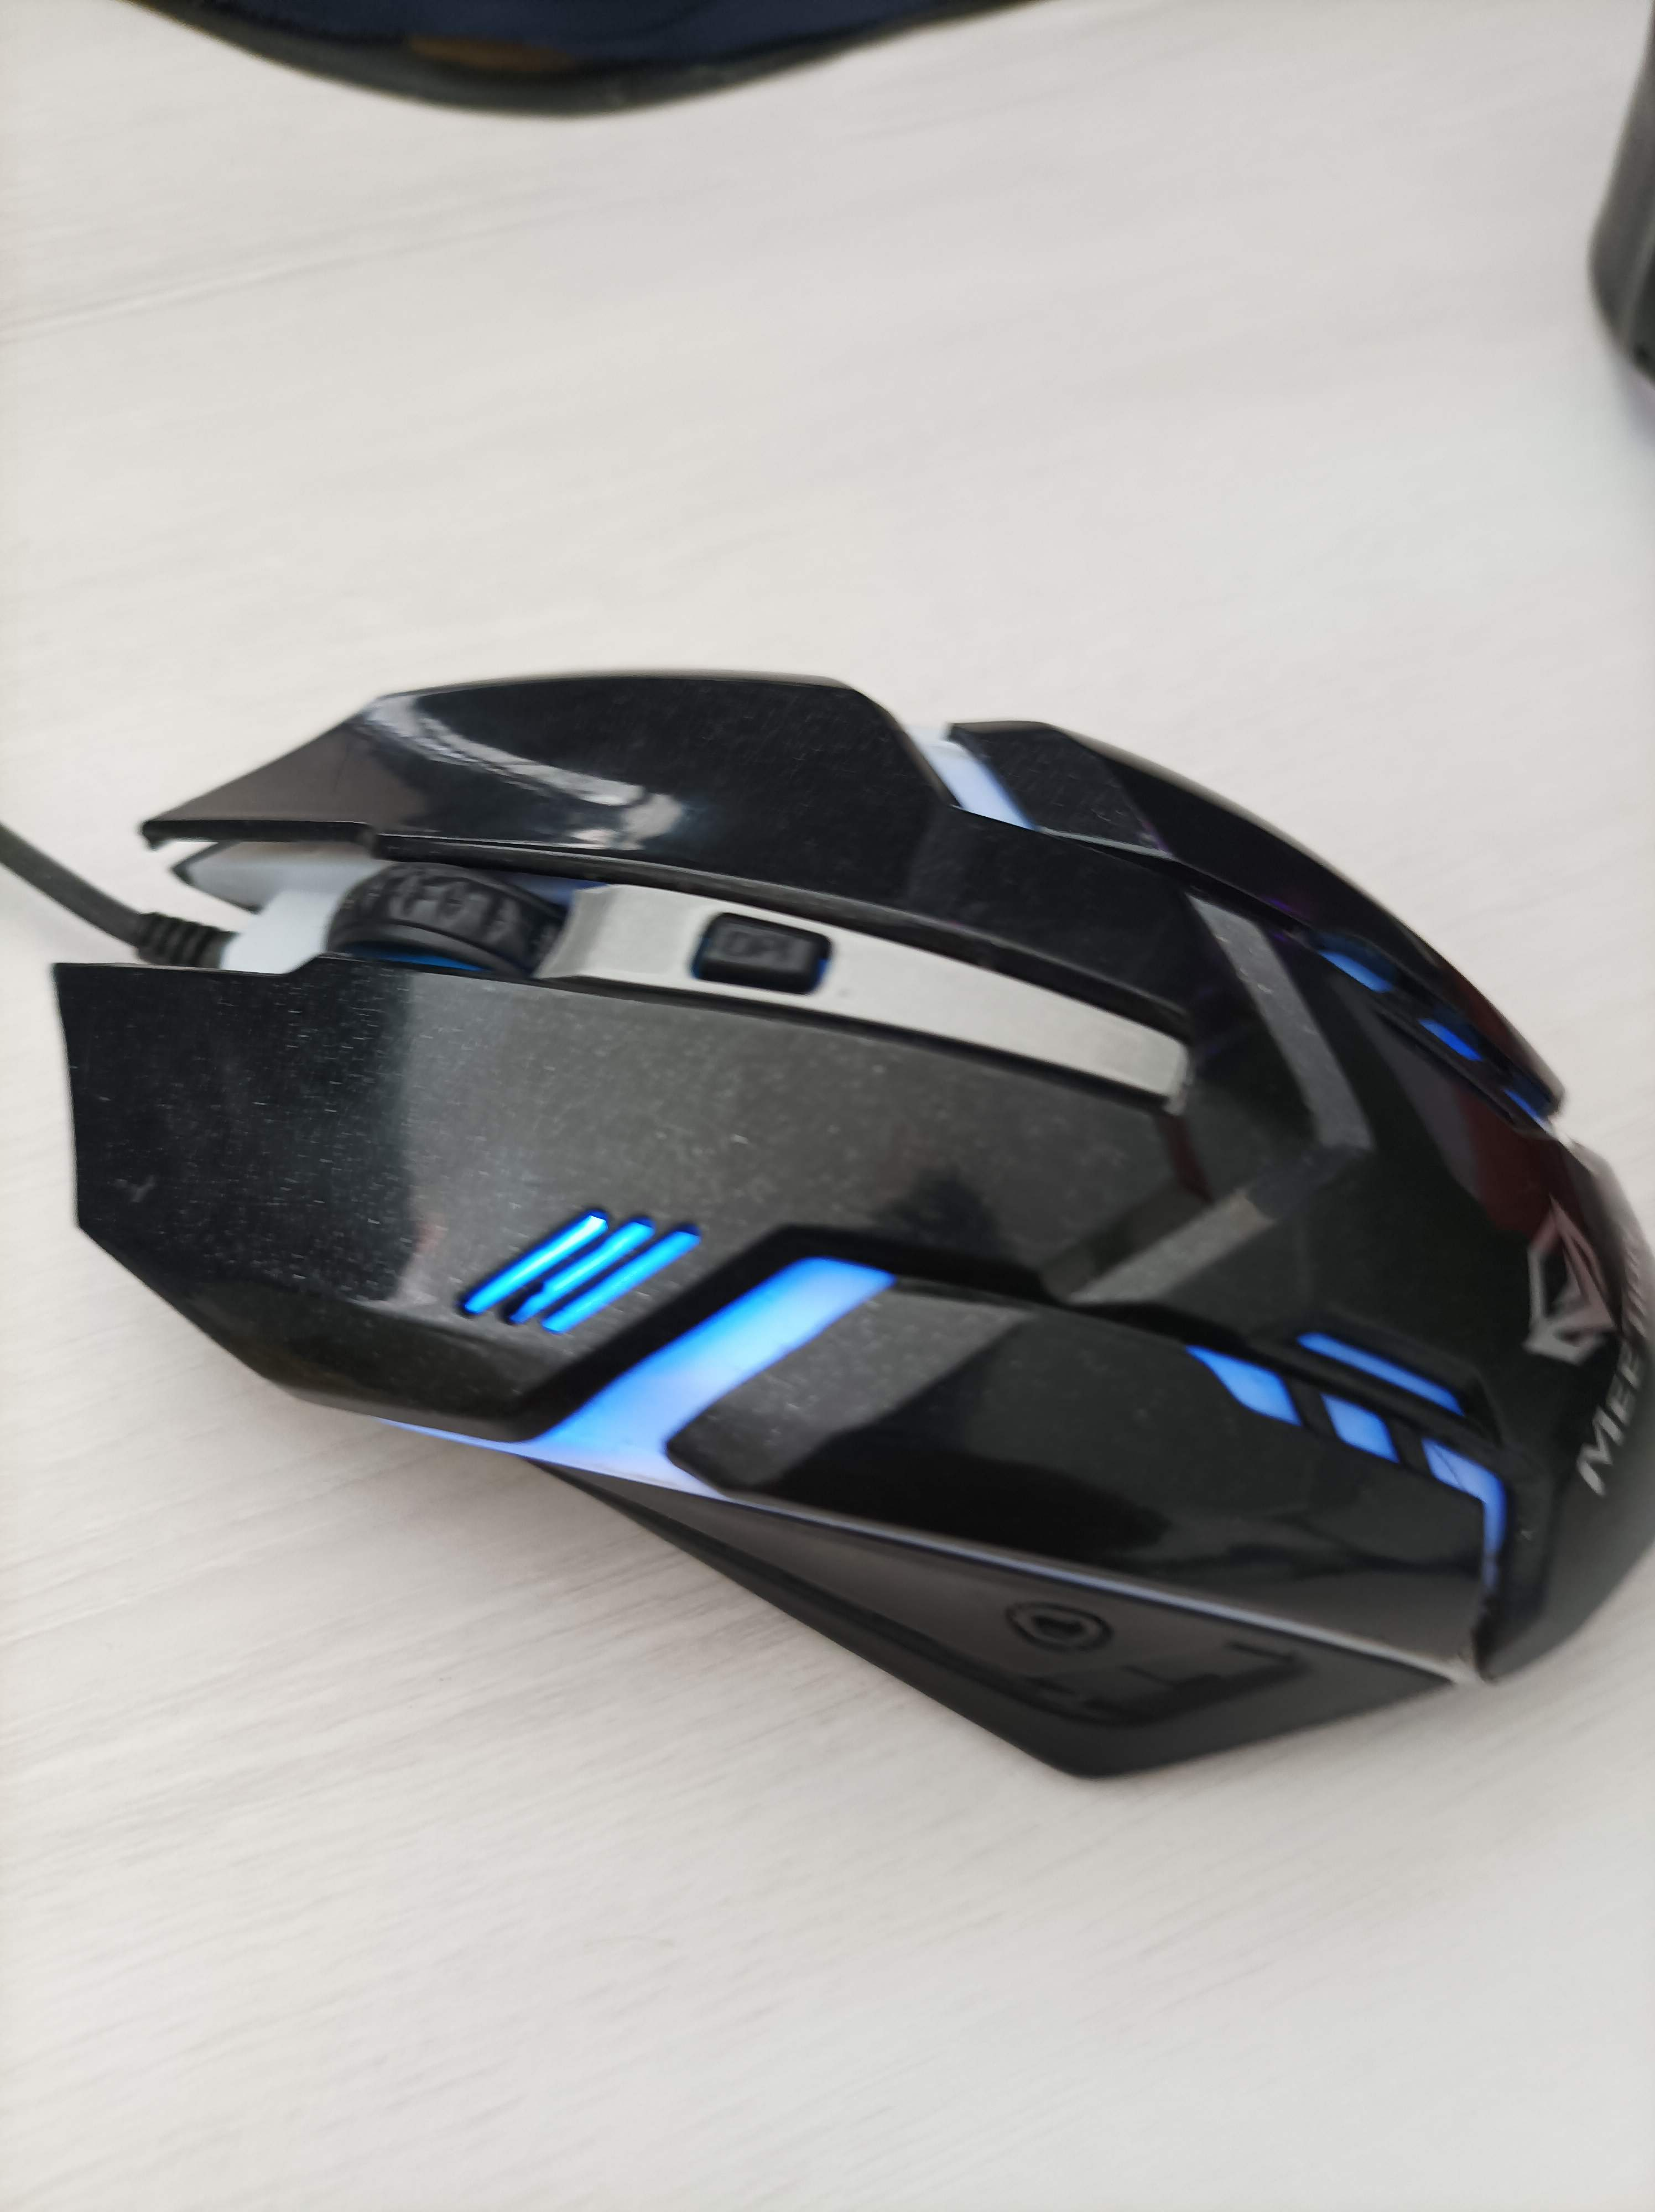mouse: (35, 660, 1655, 1812)
